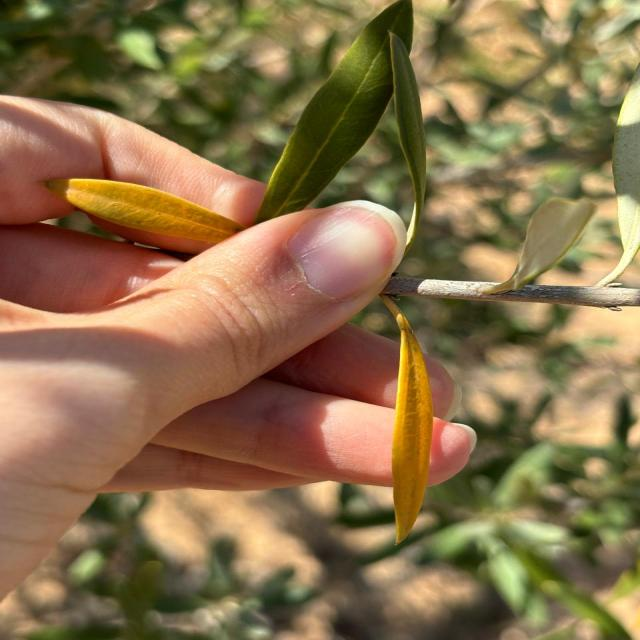Peacock Eye: (46, 178, 243, 246), (392, 314, 431, 542)
